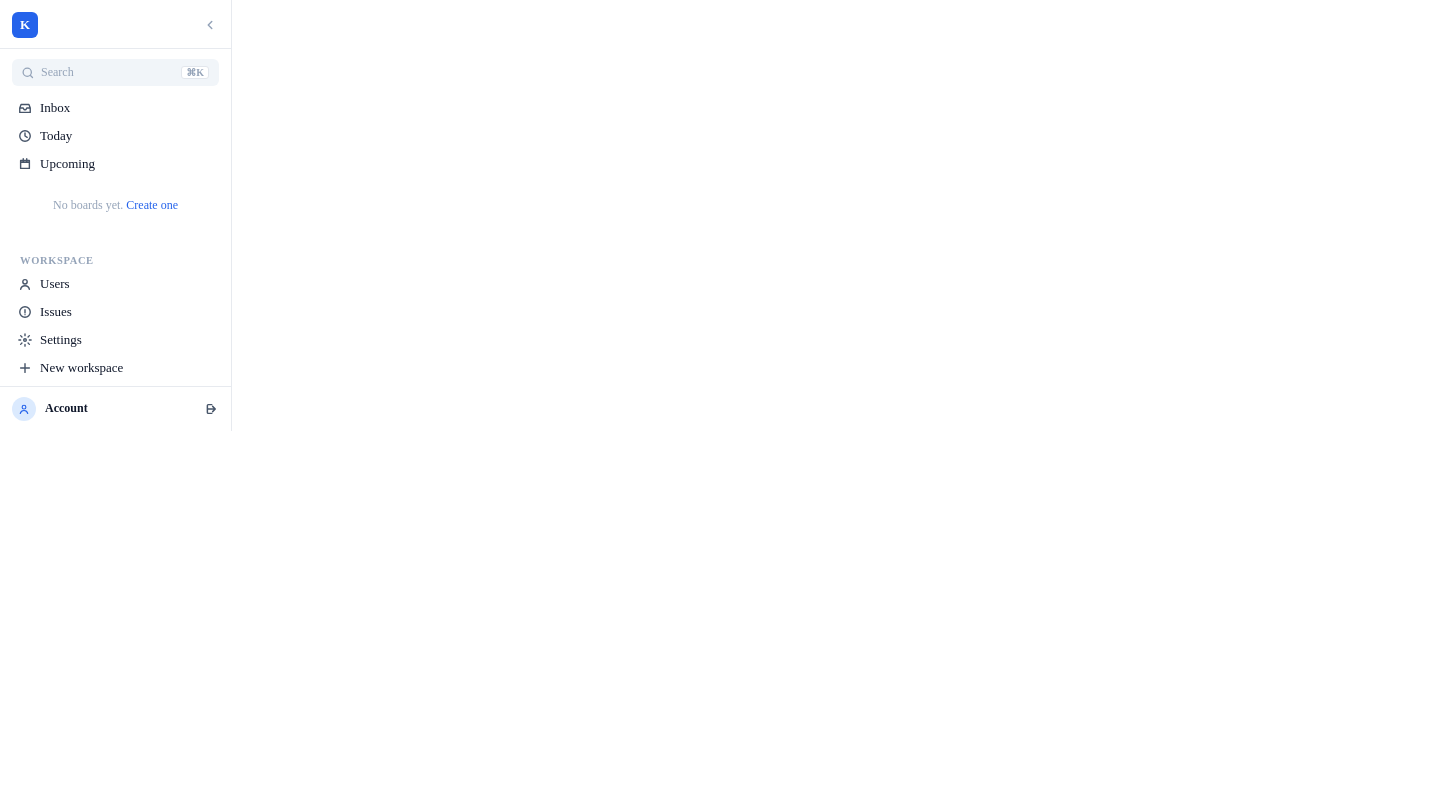
Test case: TC-010: Sidebar has settings button that opens SettingsModal › clicking the settings button opens SettingsModal
Click the link titled "settings": (50, 340) top-left (18, 332), bottom-right (82, 347)
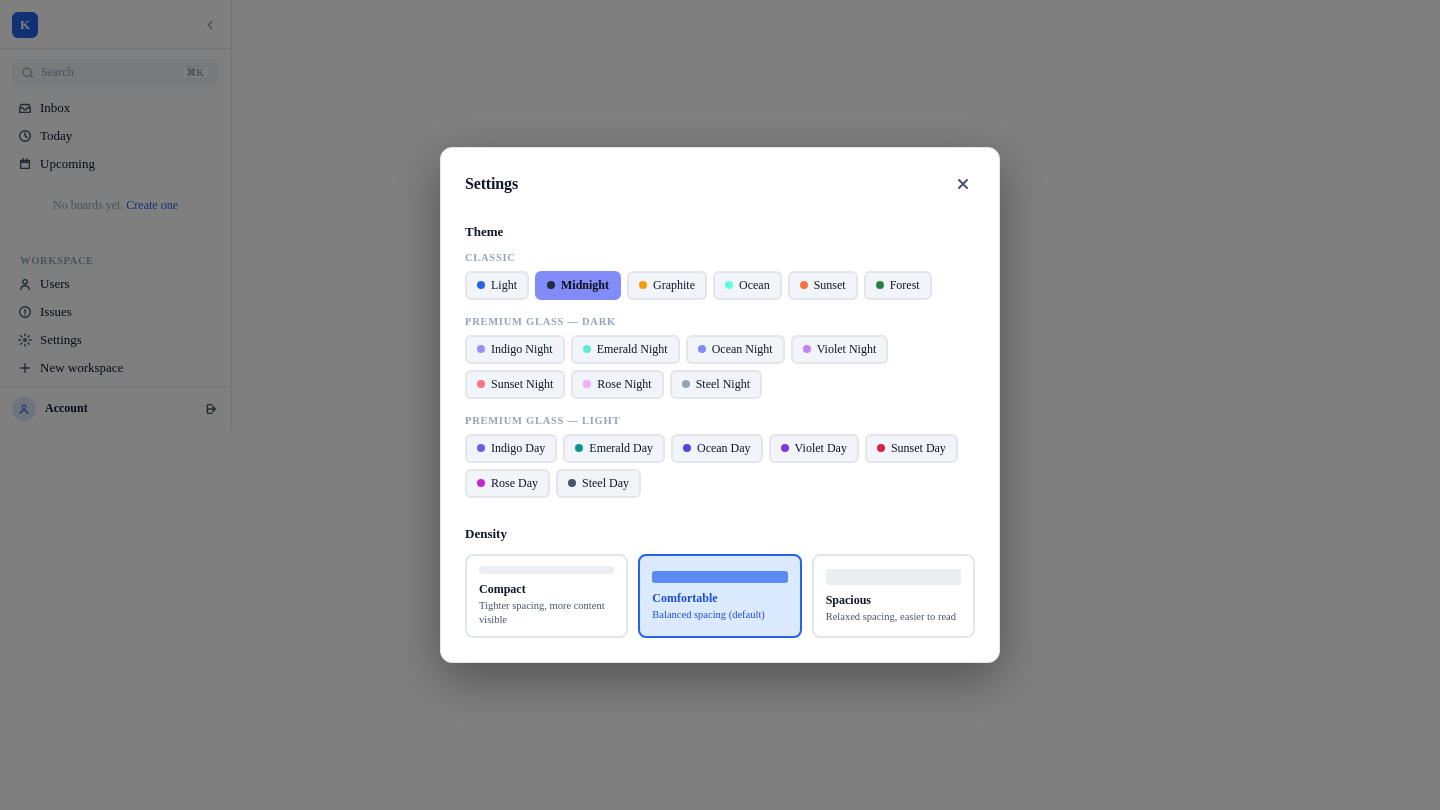
Expected: the dialog is shown, top-left (440, 147), bottom-right (1000, 663)
